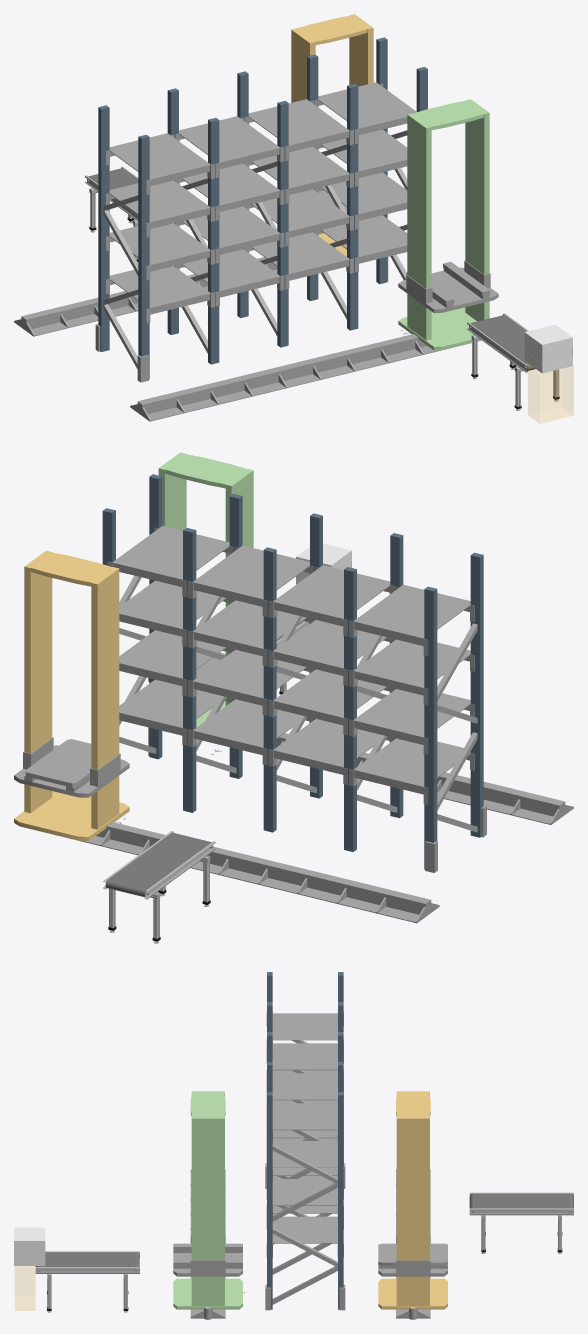
3 renders of one model, top to bottom at view 1: azimuth 30°, elevation 25°; view 2: azimuth 150°, elevation 25°; view 3: azimuth 270°, elevation 25°, orthographic. The views are drawn at different scales.
Parts seen in each view (by area): view 1: Mesh [00tg], Mesh [00qg], Mesh [00ug], Mesh [04hg], Mesh [04ig], Mesh [04cg], Mesh [04eg], Mesh [04gg], Mesh [03ag], Mesh [01og], Mesh [038g], Mesh [02gg] (+37 smaller); view 2: Mesh [00Ng], Mesh [00Og], Mesh [00Kg], Mesh [04ig], Mesh [04hg], Mesh [04dg], Mesh [04bg], Mesh [02gg], Mesh [03ag], Mesh [038g], Mesh [02Eg], Mesh [04fg] (+38 smaller); view 3: Mesh [00ug], Mesh [00Og], Mesh [02Eg], Mesh [03ag], Mesh [02gg], Mesh [038g], Mesh [01tg], Mesh [05Ng], Mesh [027g], Mesh [020g], Mesh [01cg], Mesh [00sg] (+15 smaller).
Boxes of the visible parts, x1,y1,x2,y2 form: Mesh [00tg]: [407, 113, 431, 340]; Mesh [00qg]: [137, 334, 427, 413]; Mesh [00ug]: [465, 99, 489, 321]; Mesh [04hg]: [98, 105, 109, 351]; Mesh [04ig]: [138, 134, 149, 379]; Mesh [04cg]: [347, 84, 358, 330]; Mesh [04eg]: [277, 101, 288, 347]; Mesh [04gg]: [208, 118, 219, 364]; Mesh [03ag]: [109, 133, 210, 180]; Mesh [01og]: [528, 365, 573, 422]; Mesh [038g]: [179, 116, 280, 163]; Mesh [02gg]: [248, 99, 349, 146]; Mesh [00Ng]: [91, 567, 119, 829]; Mesh [00Og]: [24, 550, 52, 813]; Mesh [00Kg]: [96, 822, 431, 916]; Mesh [04ig]: [470, 552, 483, 837]; Mesh [04hg]: [424, 586, 437, 869]; Mesh [04dg]: [263, 547, 276, 832]; Mesh [04bg]: [183, 528, 196, 812]; Mesh [02gg]: [193, 545, 309, 599]; Mesh [03ag]: [353, 585, 470, 639]; Mesh [038g]: [273, 565, 390, 619]; Mesh [02Eg]: [112, 526, 229, 580]; Mesh [04fg]: [344, 567, 356, 851]; Mesh [00ug]: [191, 1116, 224, 1305]; Mesh [00Og]: [396, 1116, 429, 1305]; Mesh [02Eg]: [272, 1103, 337, 1130]; Mesh [03ag]: [272, 1013, 337, 1040]; Mesh [02gg]: [272, 1073, 337, 1100]; Mesh [038g]: [272, 1043, 337, 1070]; Mesh [01tg]: [272, 1216, 337, 1243]; Mesh [05Ng]: [473, 1193, 570, 1208]; Mesh [027g]: [272, 1141, 337, 1167]; Mesh [020g]: [272, 1179, 337, 1205]; Mesh [01cg]: [39, 1252, 136, 1266]; Mesh [00sg]: [173, 1278, 242, 1309].
Size of the model in its own units: 5.06 by 3.4 by 8.06.
